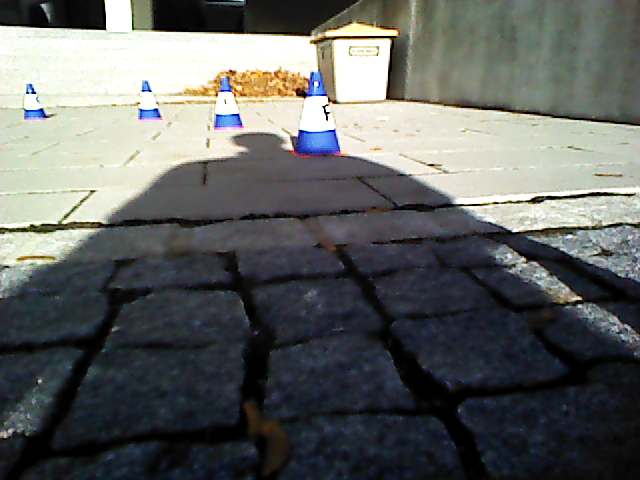bluecone: (296, 71, 334, 155), (214, 79, 241, 126), (138, 82, 161, 119), (24, 84, 47, 118)
